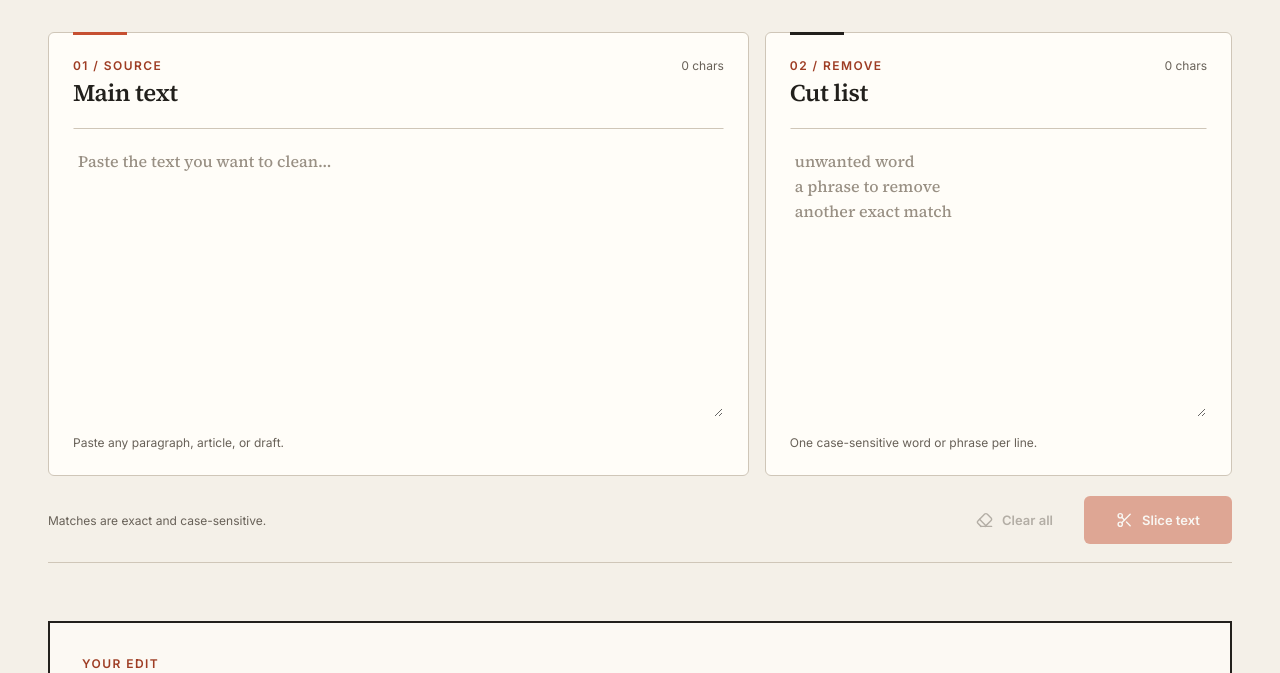
Test: Text Slicer app › clears all fields and the result
This screenshot has width=1280, height=673.
(page scrolled)
Type "some text" into the text box named "Main text" at (398,273), box 73,128 -> 724,418
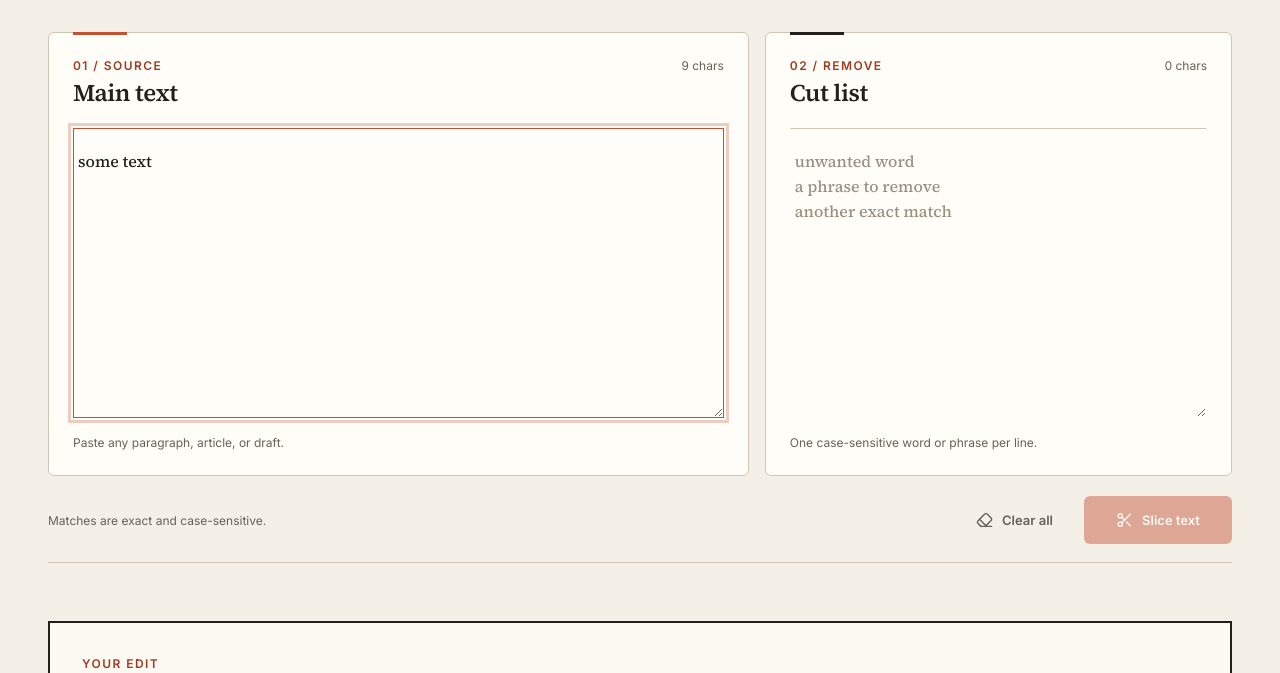
Type "some" into the text box named "Cut list" at (998,273), box 790,128 -> 1207,418
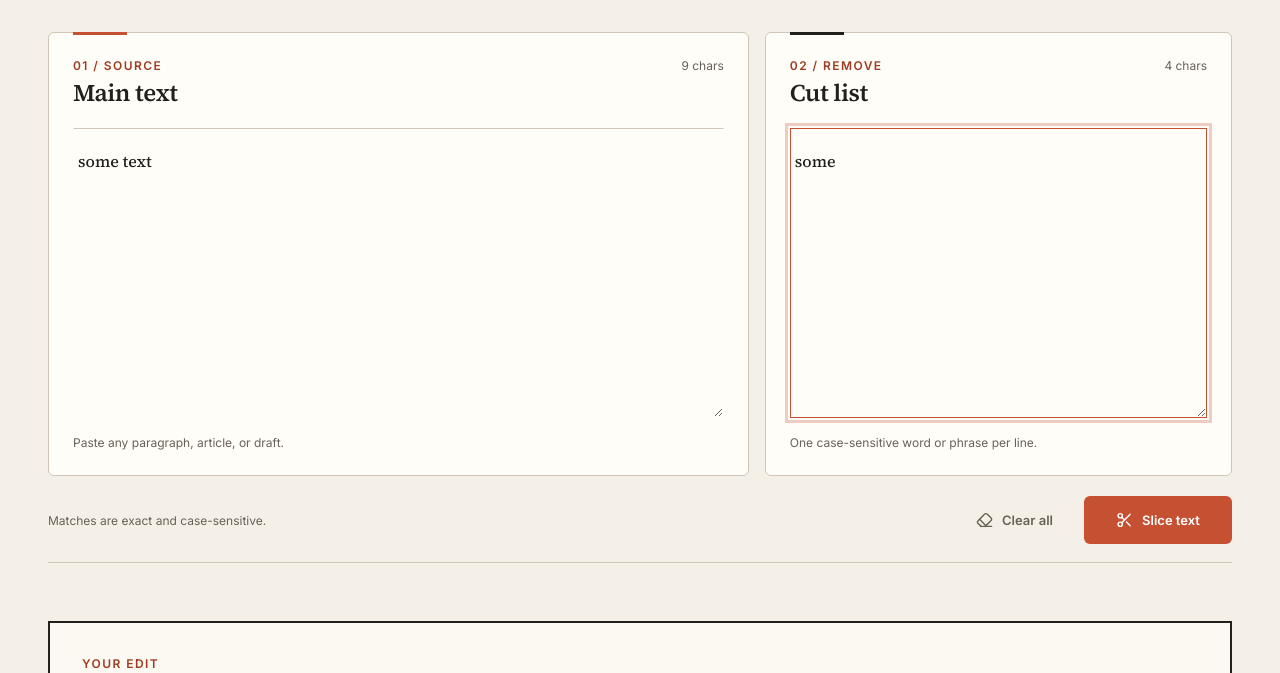
Click the button "Slice text" at (1158,520), box 1084,496 -> 1232,544
(page scrolled)
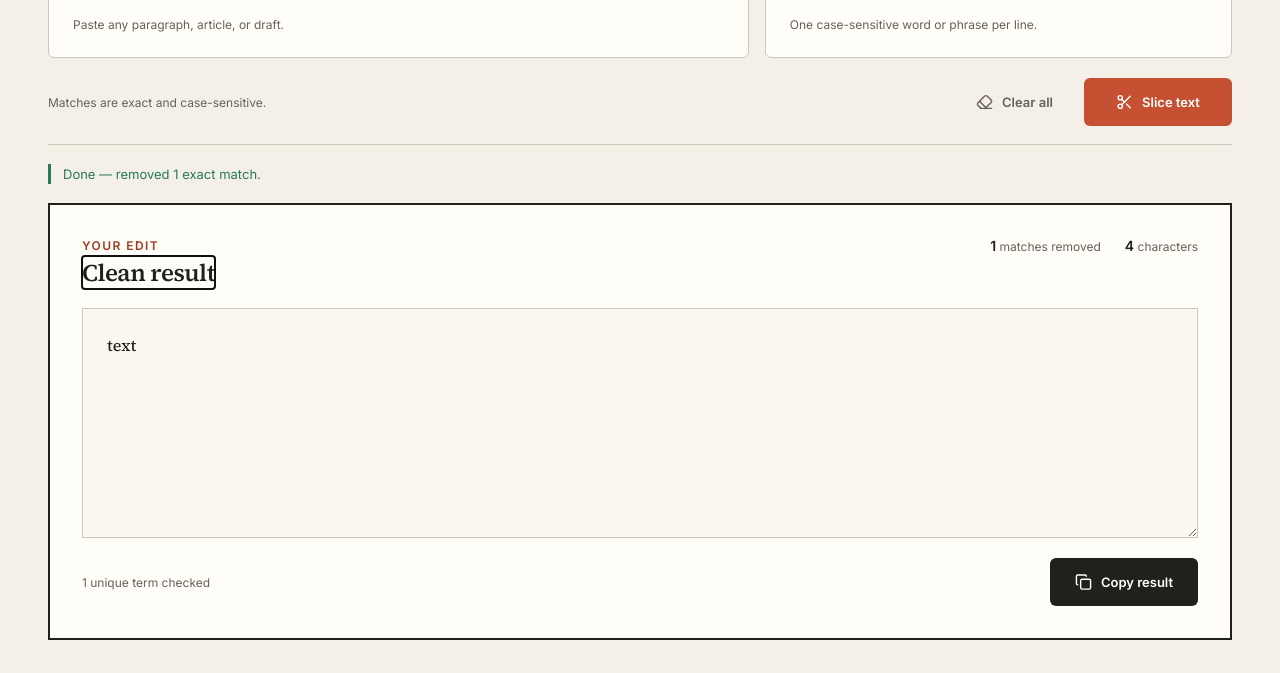
Click the button "Clear all" at (1014,102), box 955,78 -> 1074,126
(page scrolled)
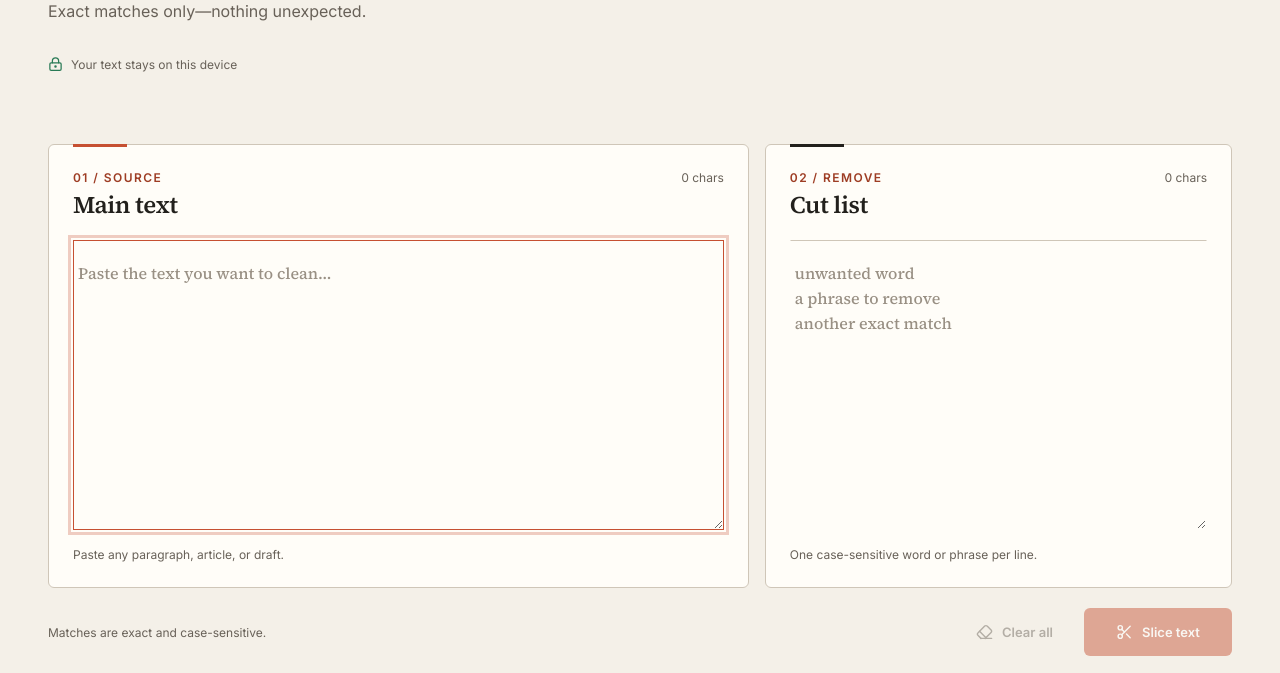
Expected: the field labelled "Edited text" is not shown
Result: the text box named "Main text" is empty at 73,240 -> 724,530
Result: the text box named "Cut list" is empty at 790,240 -> 1207,530
